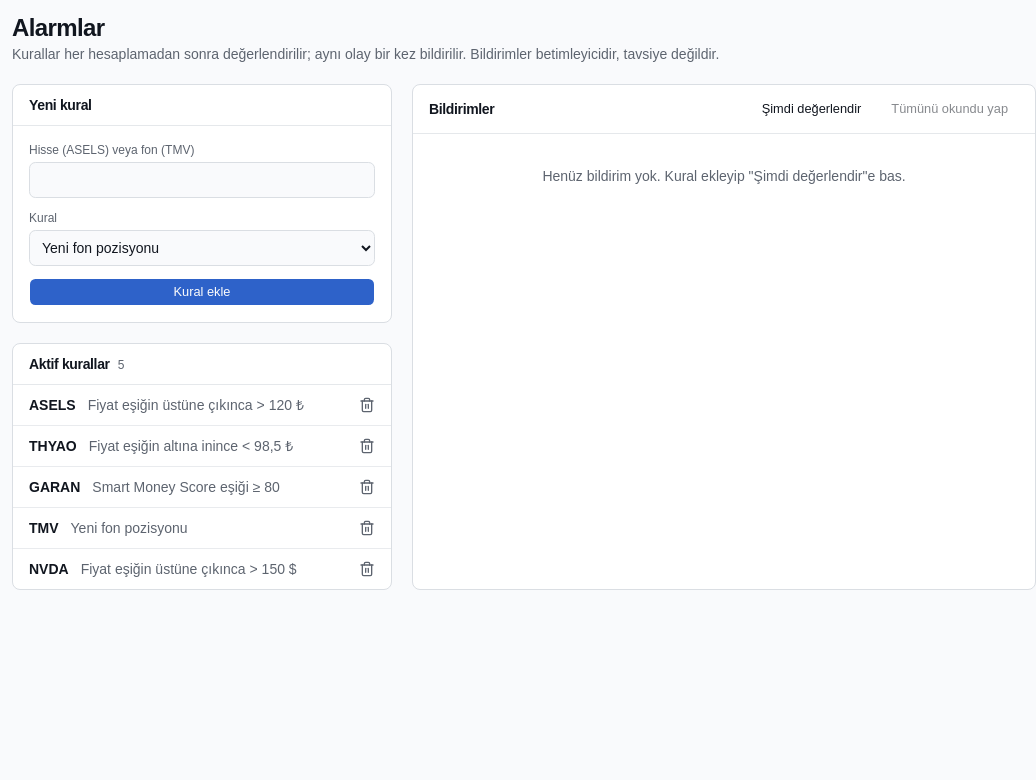
Test: AlertsPage price rules › sends a valid price rule with {price} in params for the stock and clears the form
Select "Fiyat eşiğin altına inince" in the dropdown. click: (202, 248)
box: [29,230,375,266]
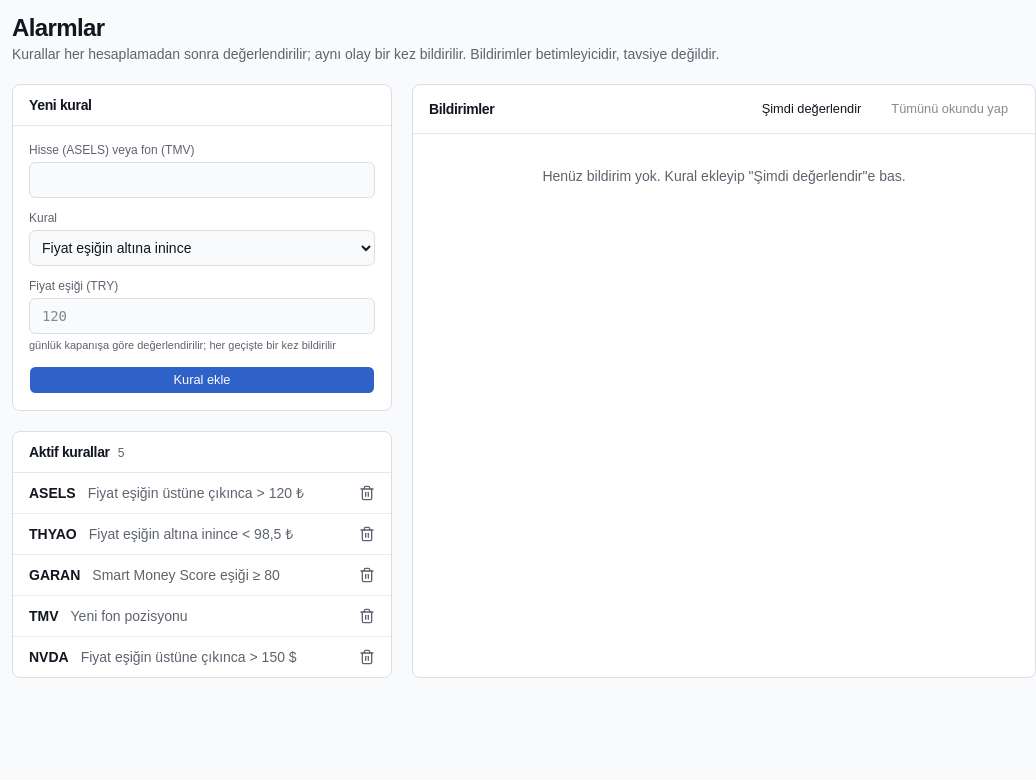
Type "asels" into the field. click: (202, 180)
box: [29,162,375,198]
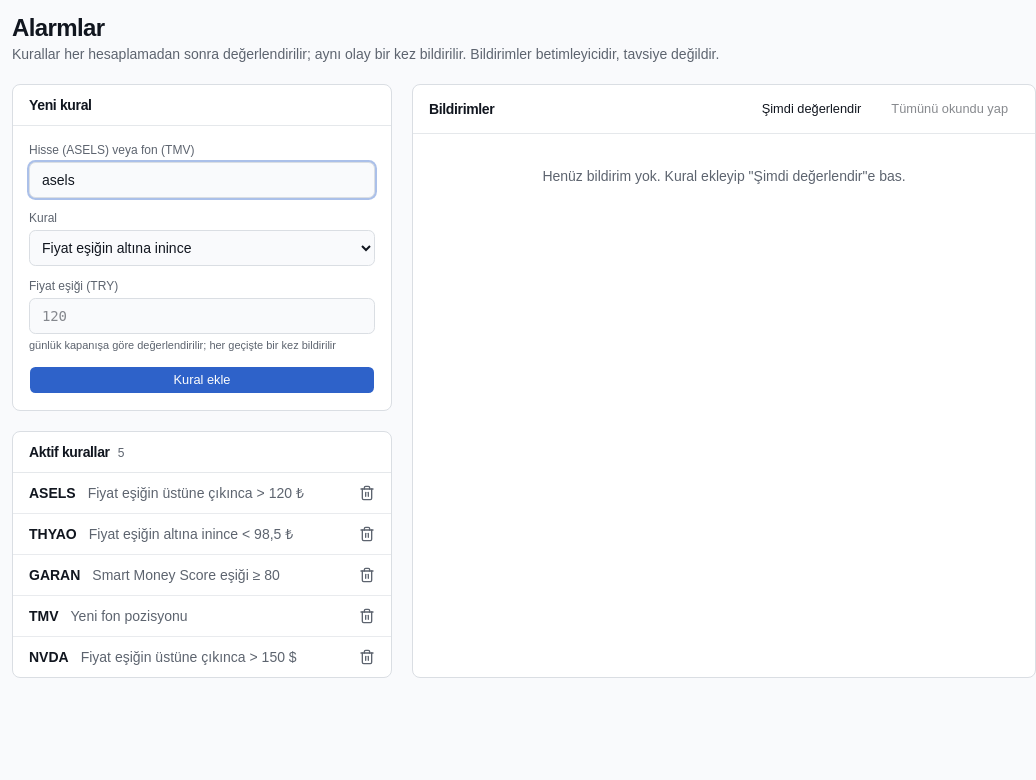
Type "120.5" into the number field. click: (202, 316)
box: [29,298,375,334]
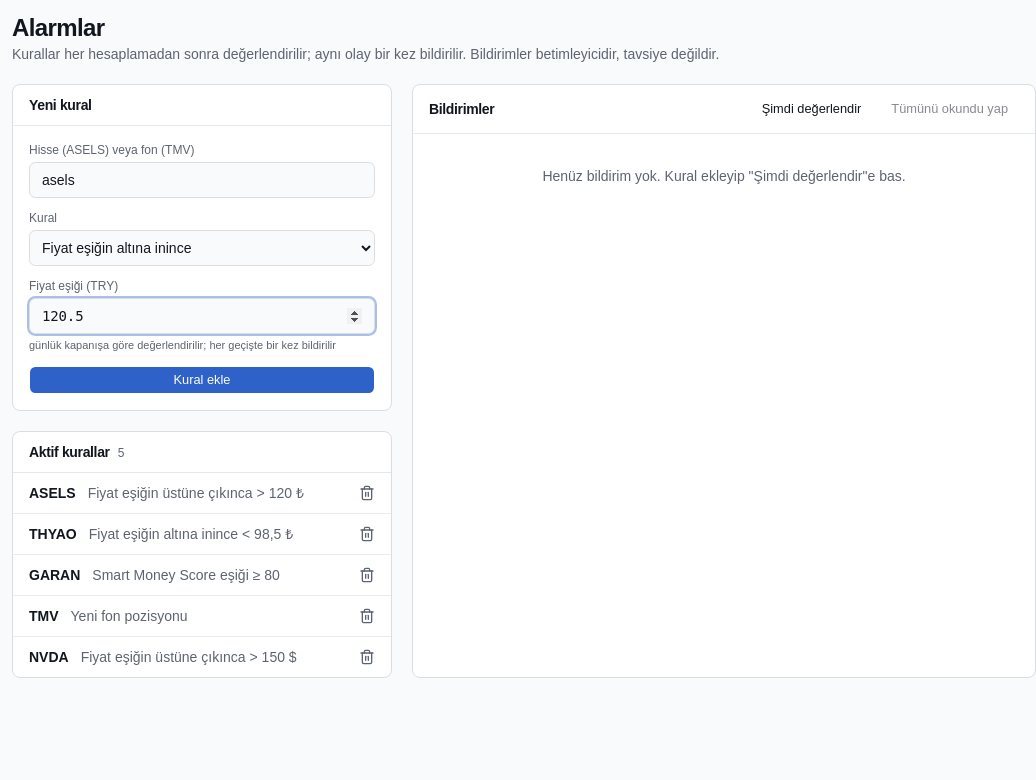
Click the button "Kural ekle". click: (202, 380)
box: [29,366,375,394]
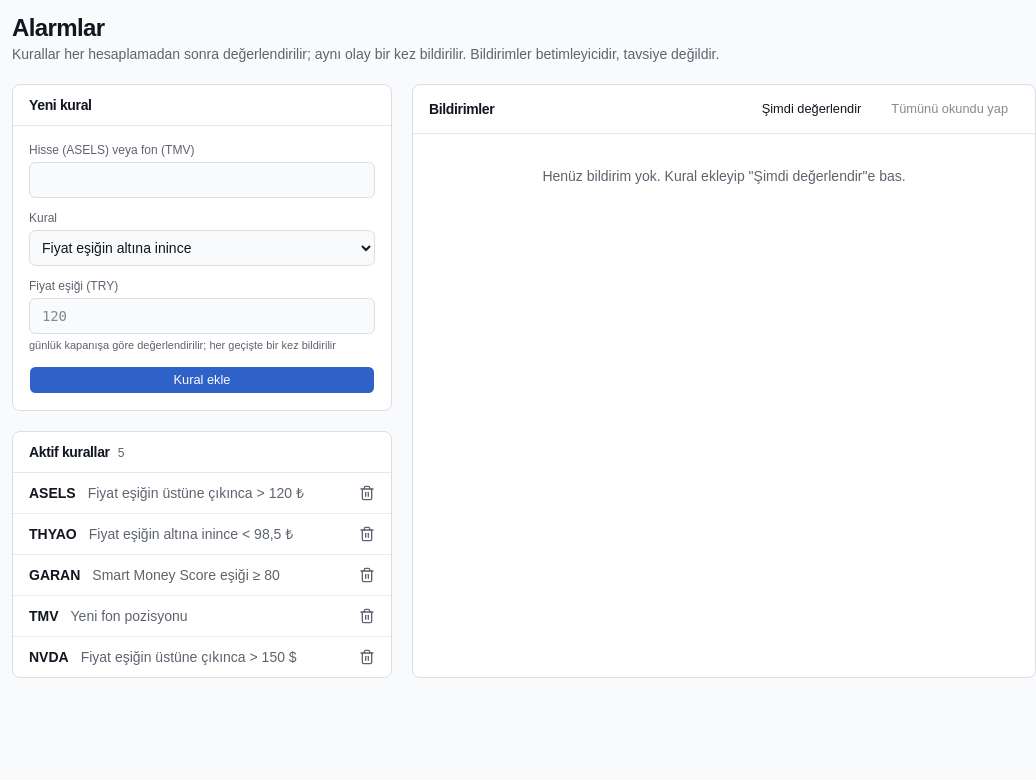
Expected: the number field is not empty, [29,298,375,334]
